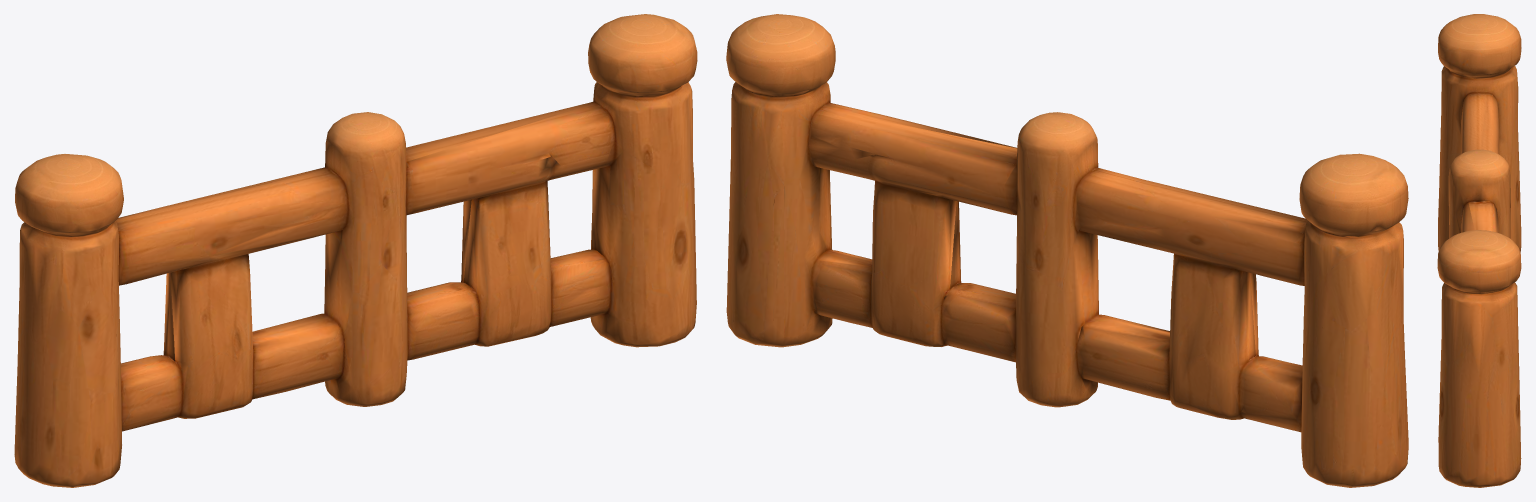
File: wood_picket_fence.glb
The picture shows the model from 3 angles, left to right: view 1: azimuth 30°, elevation 25°; view 2: azimuth 150°, elevation 25°; view 3: azimuth 270°, elevation 25°; orthographic projection. The views are drawn at different scales.
Parts seen in each view (by area): view 1: wood_picket_fence; view 2: wood_picket_fence; view 3: wood_picket_fence.
Part boxes in pixels (x1=…): wood_picket_fence: x1=14, y1=14, x2=697, y2=487; wood_picket_fence: x1=726, y1=14, x2=1408, y2=487; wood_picket_fence: x1=1437, y1=14, x2=1521, y2=487.
Bounding box in the file's own units: 1.84 × 0.8 × 0.2593.
1 material, 1 textured.
